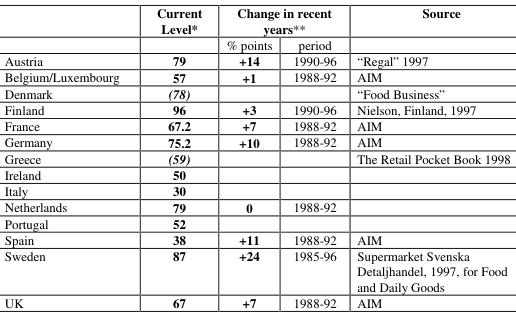table: (3, 3, 509, 311)
table column: (346, 3, 509, 311), (3, 3, 137, 311), (137, 3, 213, 311), (213, 3, 282, 311), (282, 3, 346, 311)
table column header: (3, 3, 509, 52)
table row: (3, 247, 509, 293), (3, 3, 509, 36), (3, 293, 509, 311), (3, 68, 509, 85), (3, 133, 509, 150), (3, 198, 509, 215), (3, 36, 509, 52), (3, 52, 509, 68), (3, 85, 509, 101), (3, 101, 509, 117), (3, 117, 509, 133), (3, 150, 509, 166), (3, 166, 509, 182), (3, 182, 509, 198), (3, 215, 509, 231), (3, 231, 509, 247)
table spanning cell: (346, 3, 509, 52), (213, 3, 346, 36), (137, 3, 213, 52)
